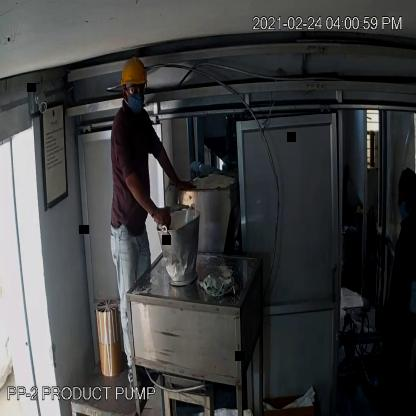helmet: (118, 56, 148, 90)
